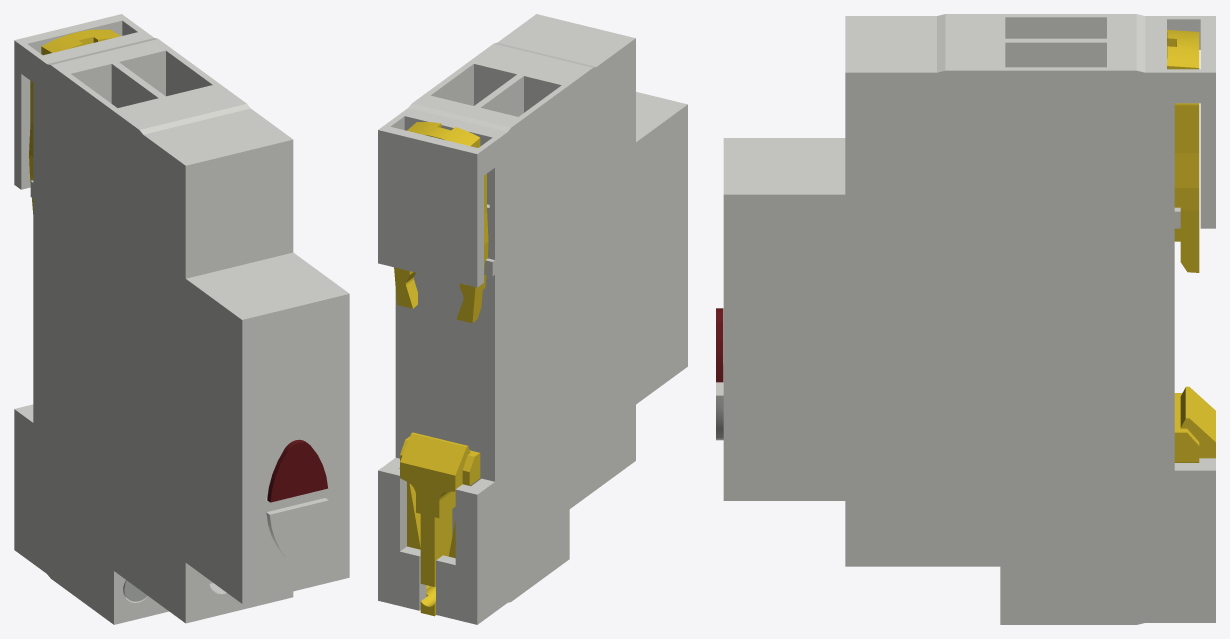
The model's file is schneider-acti9-iil-1p.glb.
3 renders of one model, left to right at view 1: azimuth 30°, elevation 25°; view 2: azimuth 150°, elevation 25°; view 3: azimuth 270°, elevation 25°, orthographic. The views are drawn at different scales.
Parts seen in each view (by area): view 1: acti9_body, acti9_lens_1, acti9_clip_5; view 2: acti9_body, acti9_clip_4, acti9_clip_5; view 3: acti9_body, acti9_clip_5, acti9_clip_4.
Boxes of the visible parts, left/top/right/bottom form: acti9_body: left=14, top=14, right=349, bottom=624; acti9_lens_1: left=267, top=439, right=327, bottom=502; acti9_clip_5: left=29, top=29, right=120, bottom=213; acti9_body: left=378, top=14, right=687, bottom=624; acti9_clip_4: left=400, top=432, right=480, bottom=616; acti9_clip_5: left=394, top=122, right=488, bottom=323; acti9_body: left=716, top=14, right=1215, bottom=624; acti9_clip_5: left=1167, top=30, right=1199, bottom=272; acti9_clip_4: left=1174, top=386, right=1215, bottom=462.
Size of the model in its own units: 0.0179 by 0.0817 by 0.0665.
